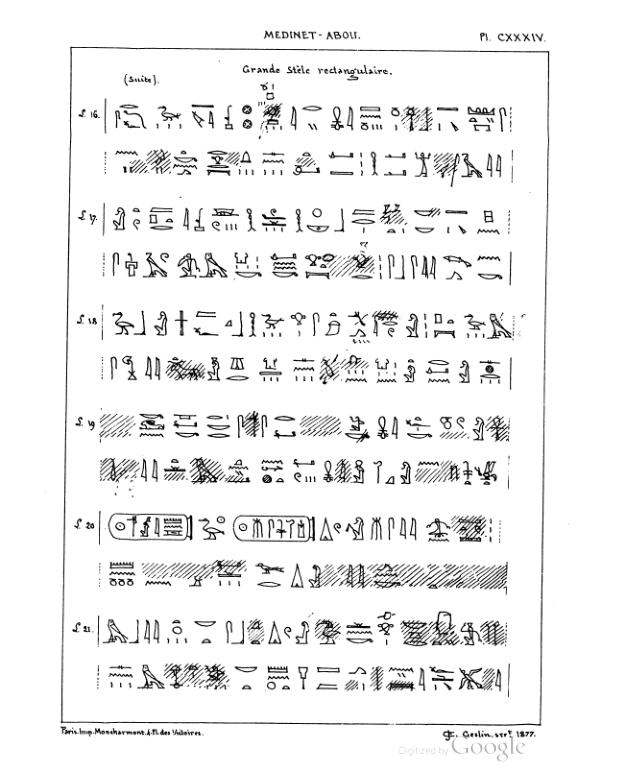circle: (230, 510, 317, 547), (106, 509, 196, 544)
